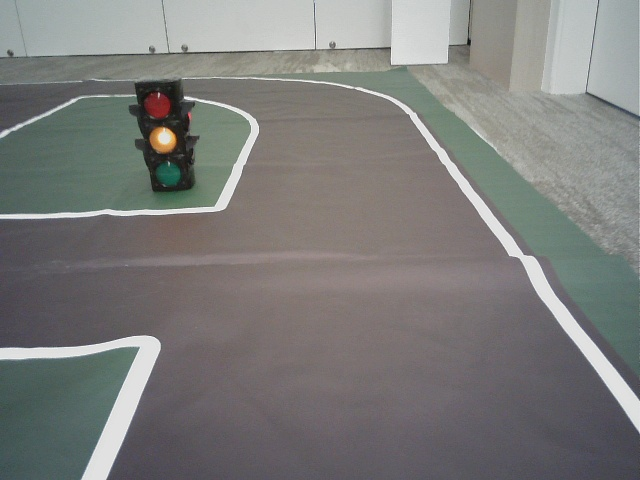yellow: (139, 85, 187, 186)
